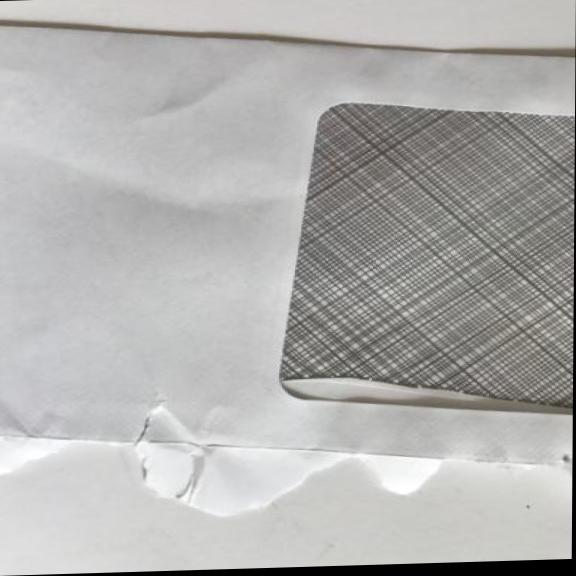Kertas: (0, 0, 576, 532)
